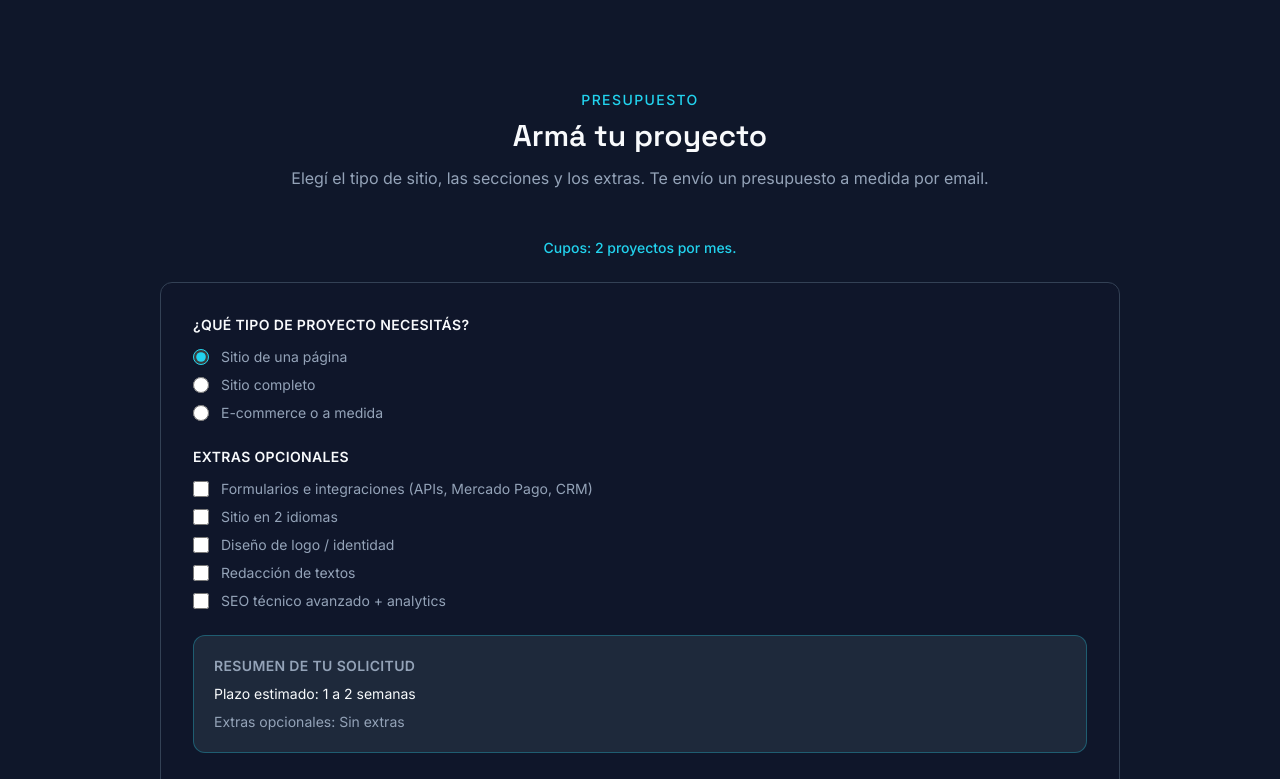
Test case: Estimator › adjusts the timeline with the institutional sections slider
Click the radio button labelled "Sitio completo": click(201, 385) x1=193 y1=377 x2=209 y2=393
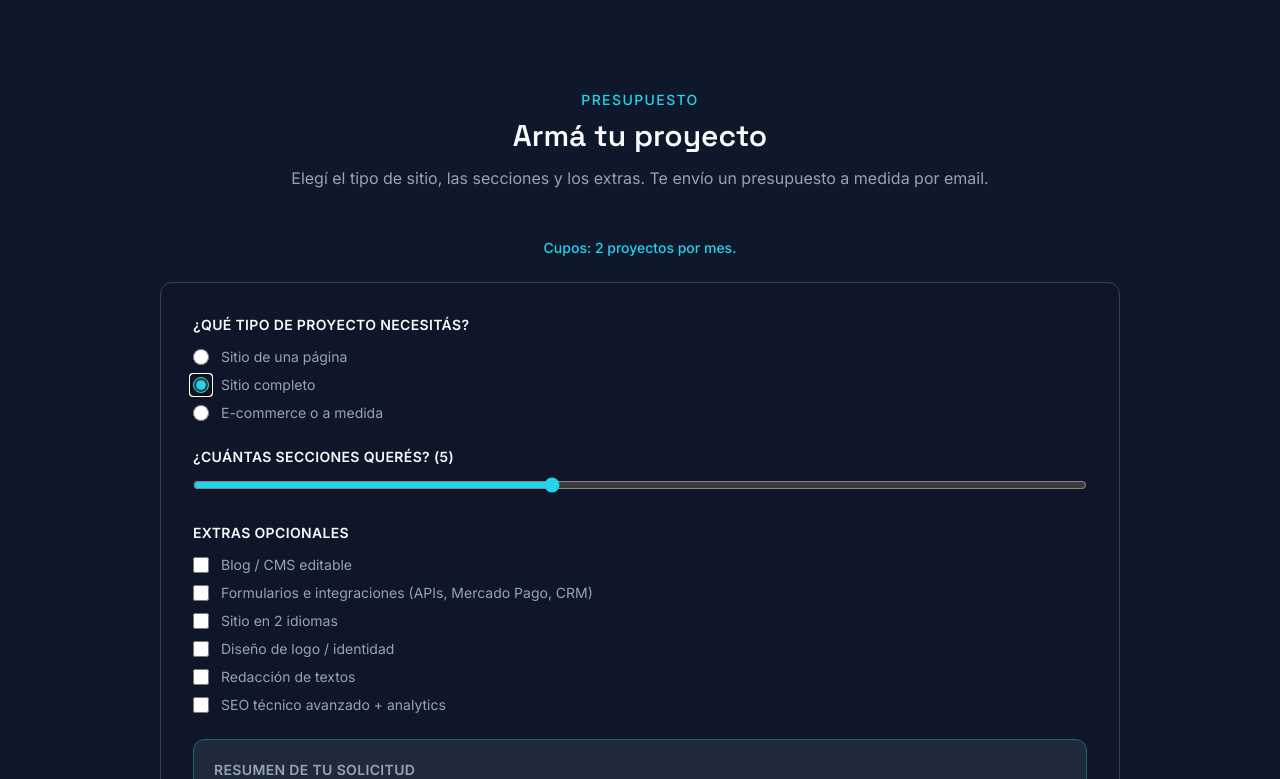
Set the slider to "8": (1079, 485) x1=193 y1=477 x2=1087 y2=493
(page scrolled)
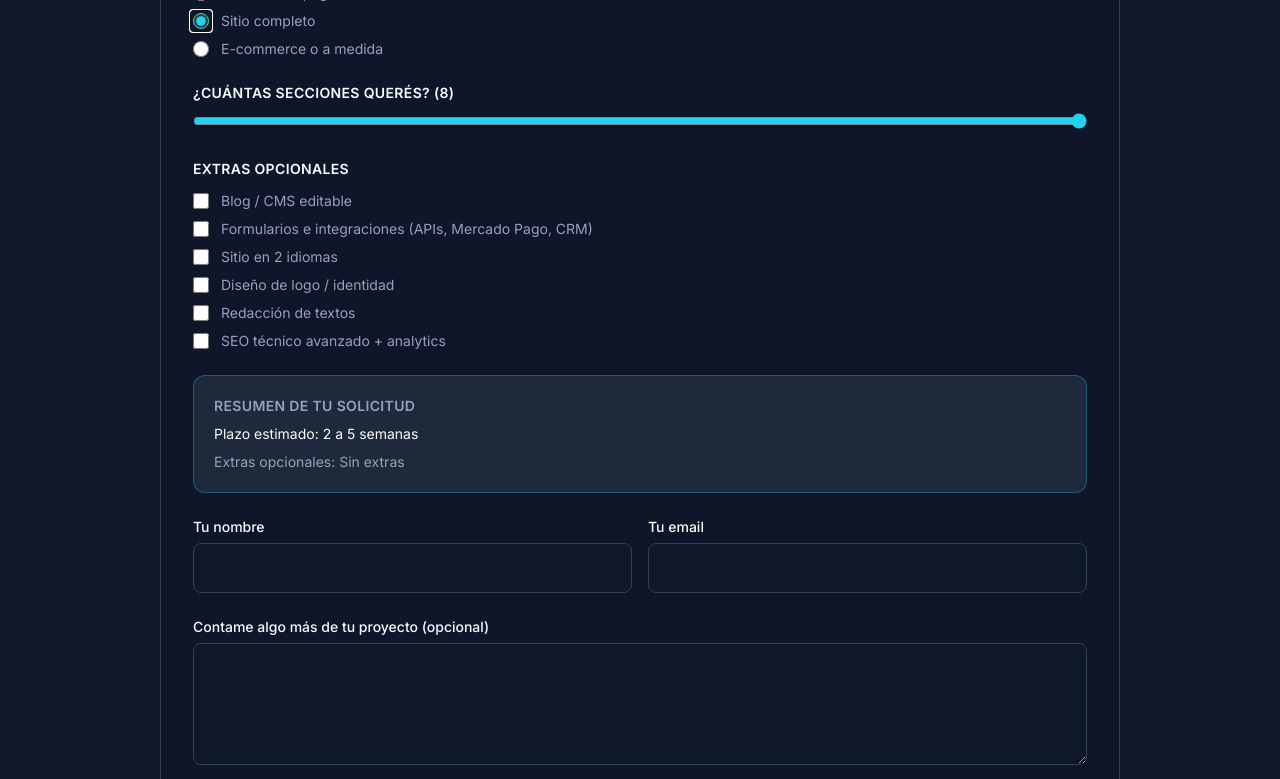
Expected: the element with test id "quote-summary" shows "2 a 5 semanas", x1=323 y1=425 x2=418 y2=442
